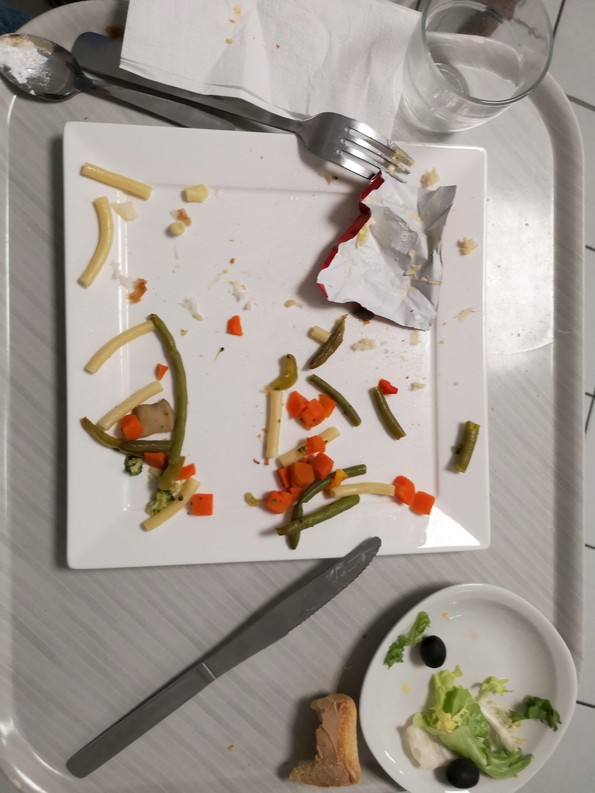cup: (413, 1, 559, 138)
cutlery: (50, 538, 393, 780), (1, 32, 421, 182)
orga: (75, 309, 213, 526), (261, 359, 430, 532), (400, 620, 561, 793), (296, 684, 366, 793)
trash: (125, 1, 403, 139), (304, 158, 474, 336)
